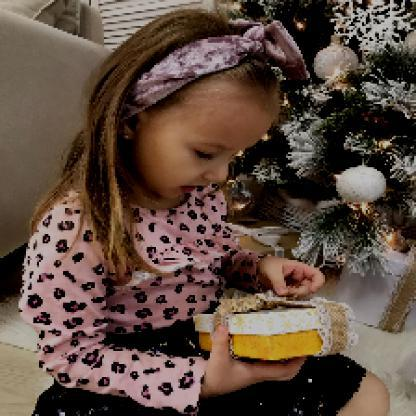child: (14, 7, 391, 416)
